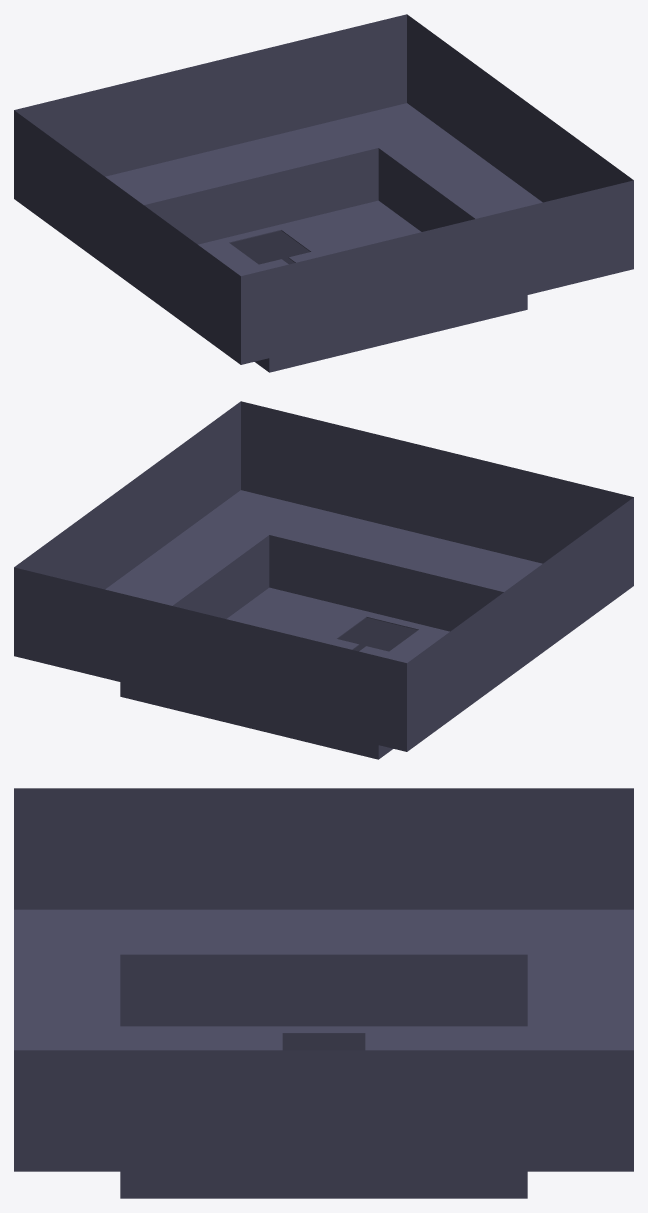
Rendered from FinalGroundLobby.fbx.
3 views of the same model, one above another, from view 1: azimuth 30°, elevation 25°; view 2: azimuth 150°, elevation 25°; view 3: azimuth 270°, elevation 25° (orthographic). The views are drawn at different scales.
Parts seen in each view (by area): view 1: FinalGroundEtage2_25, FinalGroundEtage2_32, FinalGroundEtage2_44, FinalGroundEtage2_36, FinalGroundEtage2_31, FinalGroundEtage2_38, FinalGroundEtage2_43, FinalGroundEtage1_182, FinalGroundEtage2_35, FinalGroundEtage2_45, FinalGroundEtage2_33, FinalGroundEtage2_47 (+37 smaller); view 2: FinalGroundEtage2_32, FinalGroundEtage2_25, FinalGroundEtage2_36, FinalGroundEtage2_44, FinalGroundEtage2_26, FinalGroundEtage2_38, FinalGroundEtage2_43, FinalGroundEtage1_174, FinalGroundEtage2_35, FinalGroundEtage2_45, FinalGroundEtage2_47, FinalGroundEtage2_33 (+37 smaller); view 3: FinalGroundEtage2_26, FinalGroundEtage2_31, FinalGroundEtage2_38, FinalGroundEtage2_43, FinalGroundEtage1_168, FinalGroundEtage1_187, FinalGroundEtage2_28, FinalGroundEtage2_29, FinalGroundEtage2_40, FinalGroundEtage2_41, FinalGroundEtage2_12, FinalGroundEtage2_17 (+30 smaller).
Part boxes in pixels (box(x1,y1,x2,y2)): FinalGroundEtage2_25: box(508, 180, 633, 299); FinalGroundEtage2_32: box(281, 14, 406, 133); FinalGroundEtage2_44: box(241, 245, 366, 364); FinalGroundEtage2_36: box(14, 79, 139, 176); FinalGroundEtage2_31: box(407, 14, 479, 155); FinalGroundEtage2_38: box(14, 110, 86, 251); FinalGroundEtage2_43: box(168, 223, 240, 364); FinalGroundEtage1_182: box(284, 148, 378, 223); FinalGroundEtage2_35: box(158, 62, 210, 163); FinalGroundEtage2_45: box(385, 228, 437, 329); FinalGroundEtage2_33: box(210, 49, 262, 150); FinalGroundEtage2_47: box(437, 216, 489, 316); FinalGroundEtage2_32: box(14, 567, 139, 686); FinalGroundEtage2_25: box(241, 401, 366, 520); FinalGroundEtage2_36: box(281, 632, 406, 751); FinalGroundEtage2_44: box(508, 466, 633, 563); FinalGroundEtage2_26: box(168, 401, 240, 542); FinalGroundEtage2_38: box(407, 610, 479, 751); FinalGroundEtage2_43: box(561, 497, 633, 638); FinalGroundEtage1_174: box(269, 535, 363, 610); FinalGroundEtage2_35: box(210, 615, 262, 716); FinalGroundEtage2_45: box(437, 449, 489, 550); FinalGroundEtage2_47: box(385, 436, 437, 537); FinalGroundEtage2_33: box(158, 603, 210, 703); FinalGroundEtage2_26: box(14, 1050, 212, 1171); FinalGroundEtage2_31: box(435, 1050, 633, 1171); FinalGroundEtage2_38: box(435, 788, 633, 909); FinalGroundEtage2_43: box(14, 788, 212, 909); FinalGroundEtage1_168: box(120, 954, 268, 1026); FinalGroundEtage1_187: box(379, 954, 527, 1026); FinalGroundEtage2_28: box(242, 1050, 323, 1171); FinalGroundEtage2_29: box(324, 1050, 405, 1171); FinalGroundEtage2_40: box(324, 788, 405, 909); FinalGroundEtage2_41: box(242, 788, 323, 909); FinalGroundEtage2_12: box(380, 909, 633, 954); FinalGroundEtage2_17: box(14, 909, 267, 954).
Bounding box in the file's own units: 197 × 67.93 × 197.
